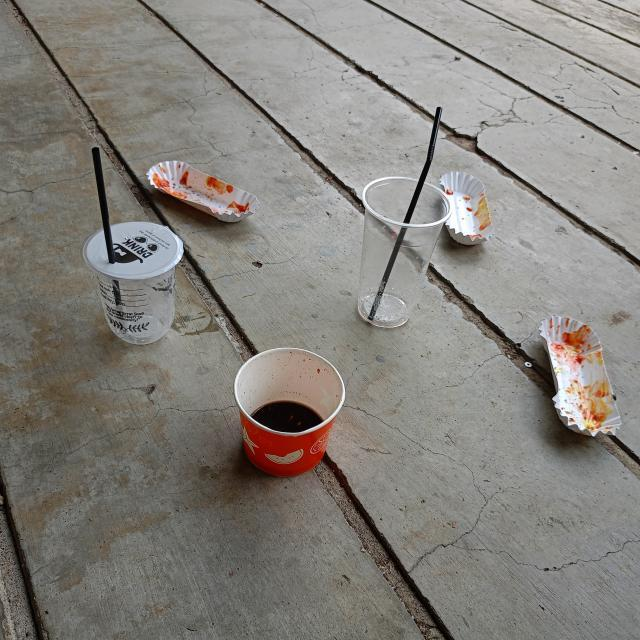recyclable waste: (225, 338, 353, 486), (348, 166, 457, 339), (76, 215, 192, 352), (532, 306, 632, 447), (138, 152, 267, 231), (435, 164, 498, 254)
